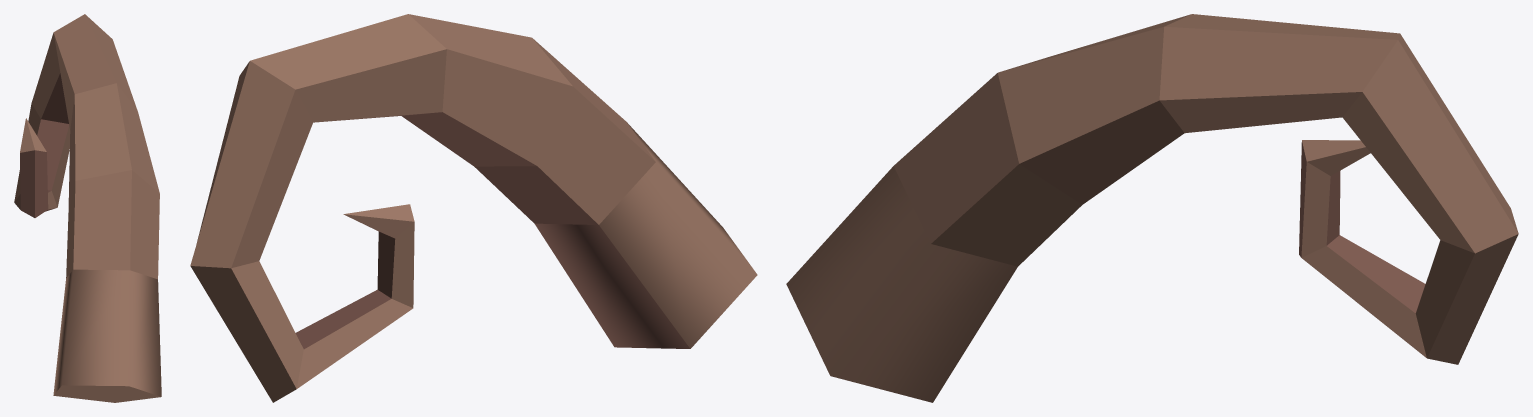
The picture shows the model from 3 angles, left to right: view 1: azimuth 30°, elevation 25°; view 2: azimuth 150°, elevation 25°; view 3: azimuth 270°, elevation 25°; orthographic projection. The views are drawn at different scales.
Parts seen in each view (by area): view 1: Cylinder021; view 2: Cylinder021; view 3: Cylinder021.
Boxes of the visible parts, <box> form: Cylinder021: <box>14,14,161,402</box>; Cylinder021: <box>190,14,757,402</box>; Cylinder021: <box>786,14,1518,402</box>.
Size of the model in its own units: 10.4 by 13.29 by 19.55.
